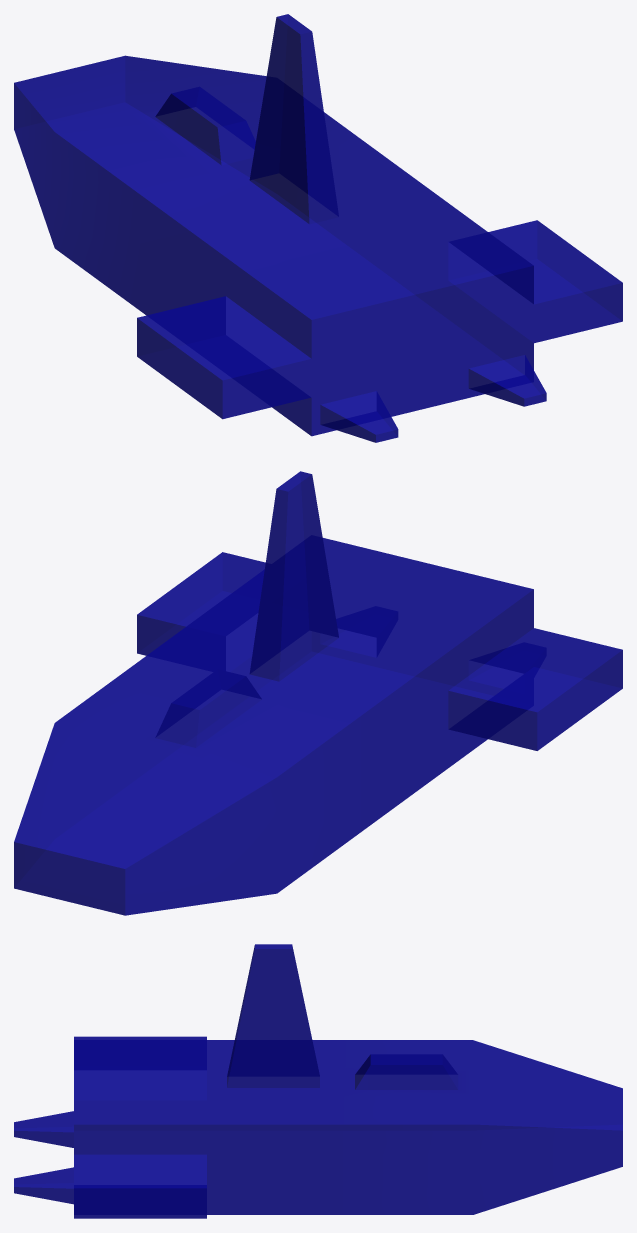
The model's file is nave.obj.
The picture shows the model from 3 angles, top to bottom: view 1: azimuth 30°, elevation 25°; view 2: azimuth 150°, elevation 25°; view 3: azimuth 270°, elevation 25°; orthographic projection. The views are drawn at different scales.
Parts seen in each view (by area): view 1: Cube; view 2: Cube; view 3: Cube.
Boxes of the visible parts, bbox=[...] form: Cube: bbox=[14, 14, 622, 442]; Cube: bbox=[14, 471, 622, 915]; Cube: bbox=[14, 944, 622, 1218].
Bounding box in the file's own units: 3.6 × 2.5 × 6.1.
